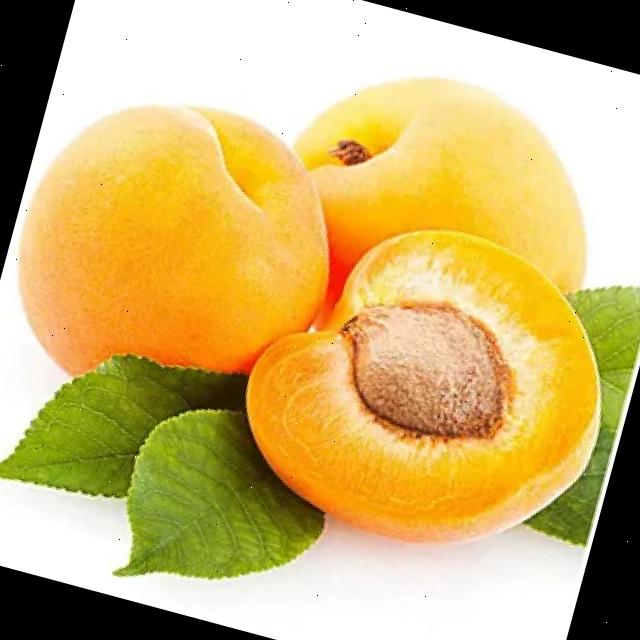Cekirdek: (346, 305, 500, 435)
Kayisi: (19, 105, 327, 371)
Yaprak: (118, 411, 318, 576)
